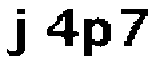4: (43, 7, 78, 50)
7: (116, 4, 151, 49)
j: (6, 3, 32, 60)
p: (81, 16, 113, 60)
